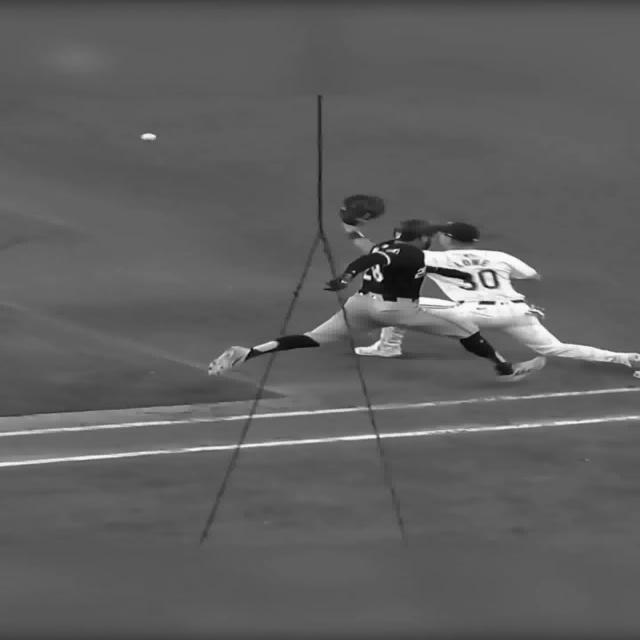baseball: (140, 132, 158, 141)
baseball_glove: (340, 195, 385, 225)
shoe: (498, 356, 547, 382), (209, 346, 251, 375), (353, 340, 402, 358)
